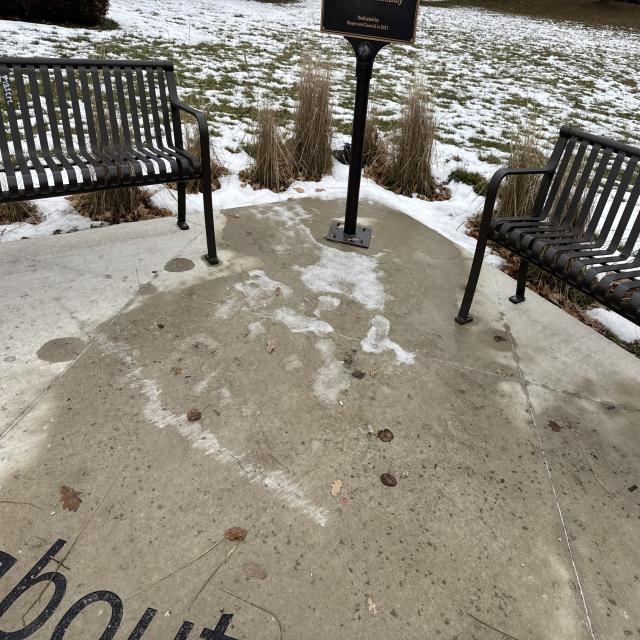Bench: (1, 43, 212, 261), (459, 110, 640, 333)
